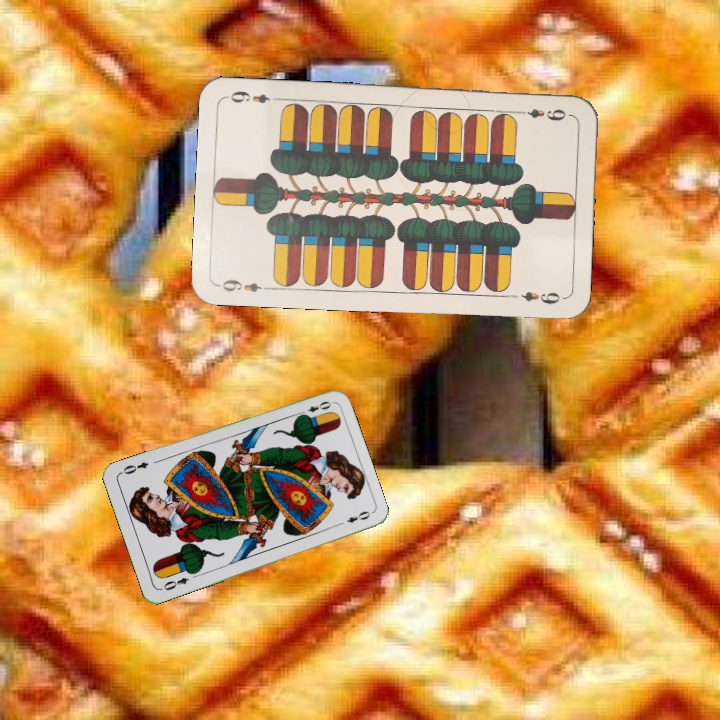E9: (215, 275, 274, 295), (513, 105, 573, 124)
EO: (295, 397, 334, 419), (159, 573, 191, 593)
